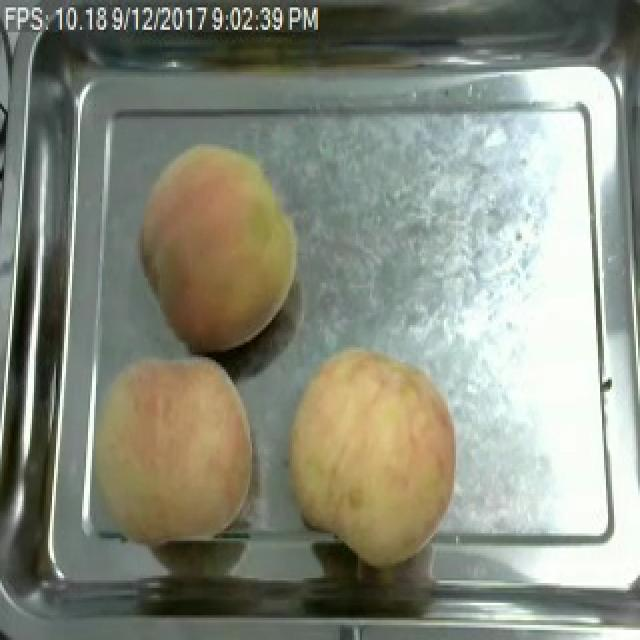Fruit: (276, 337, 468, 573), (70, 342, 262, 554), (136, 136, 308, 358)
